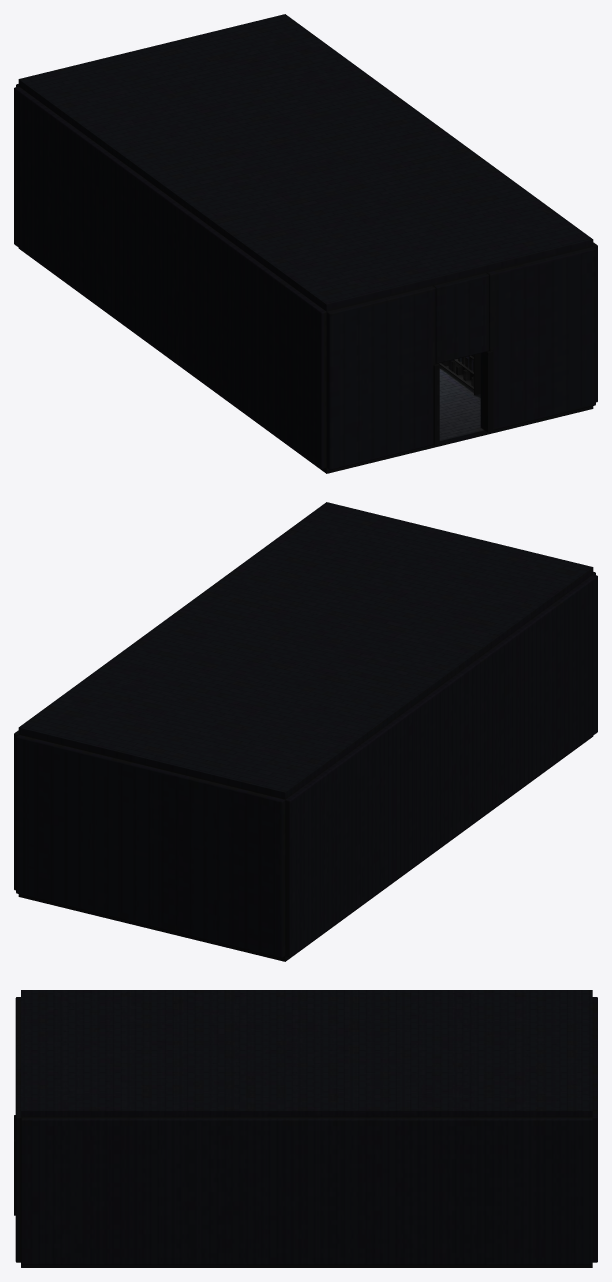
The model's file is archive.glb.
3 renders of one model, top to bottom at view 1: azimuth 30°, elevation 25°; view 2: azimuth 150°, elevation 25°; view 3: azimuth 270°, elevation 25°, orthographic. The views are drawn at different scales.
Parts seen in each view (by area): view 1: Shell, Furniture; view 2: Shell; view 3: Shell.
Boxes of the visible parts, x1,y1,x2,y2 form: Shell: (14,14,597,473); Furniture: (438,353,480,395); Shell: (14,502,597,961); Shell: (14,990,597,1267).
Size of the model in its own units: 16.6 by 9.7 by 32.7.
5 materials, 2 textured.
